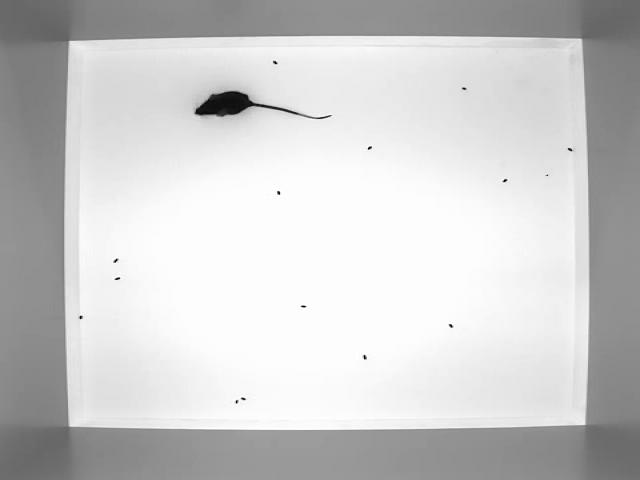Tikus: (192, 86, 336, 132)
